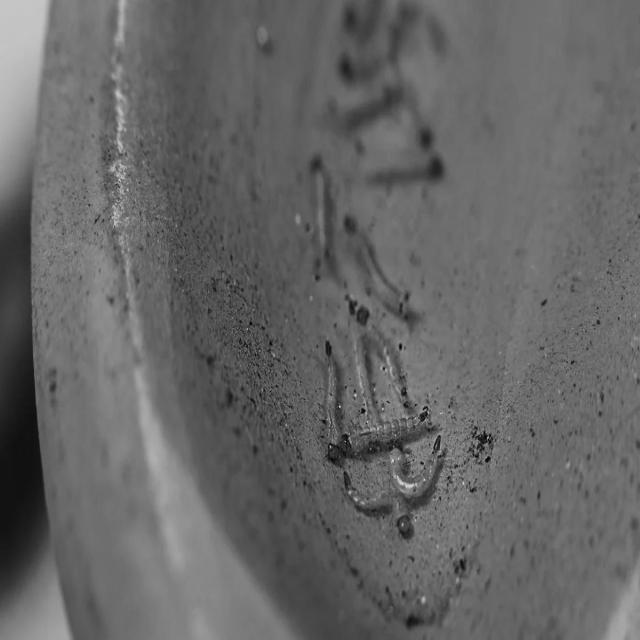larvas: (357, 298, 412, 406), (346, 218, 409, 310), (349, 298, 381, 449), (344, 467, 410, 534), (340, 410, 430, 454), (390, 437, 441, 497), (340, 13, 391, 71), (326, 84, 401, 120), (400, 81, 432, 144), (357, 131, 430, 157), (322, 342, 338, 458), (314, 160, 329, 253), (341, 0, 383, 27)
